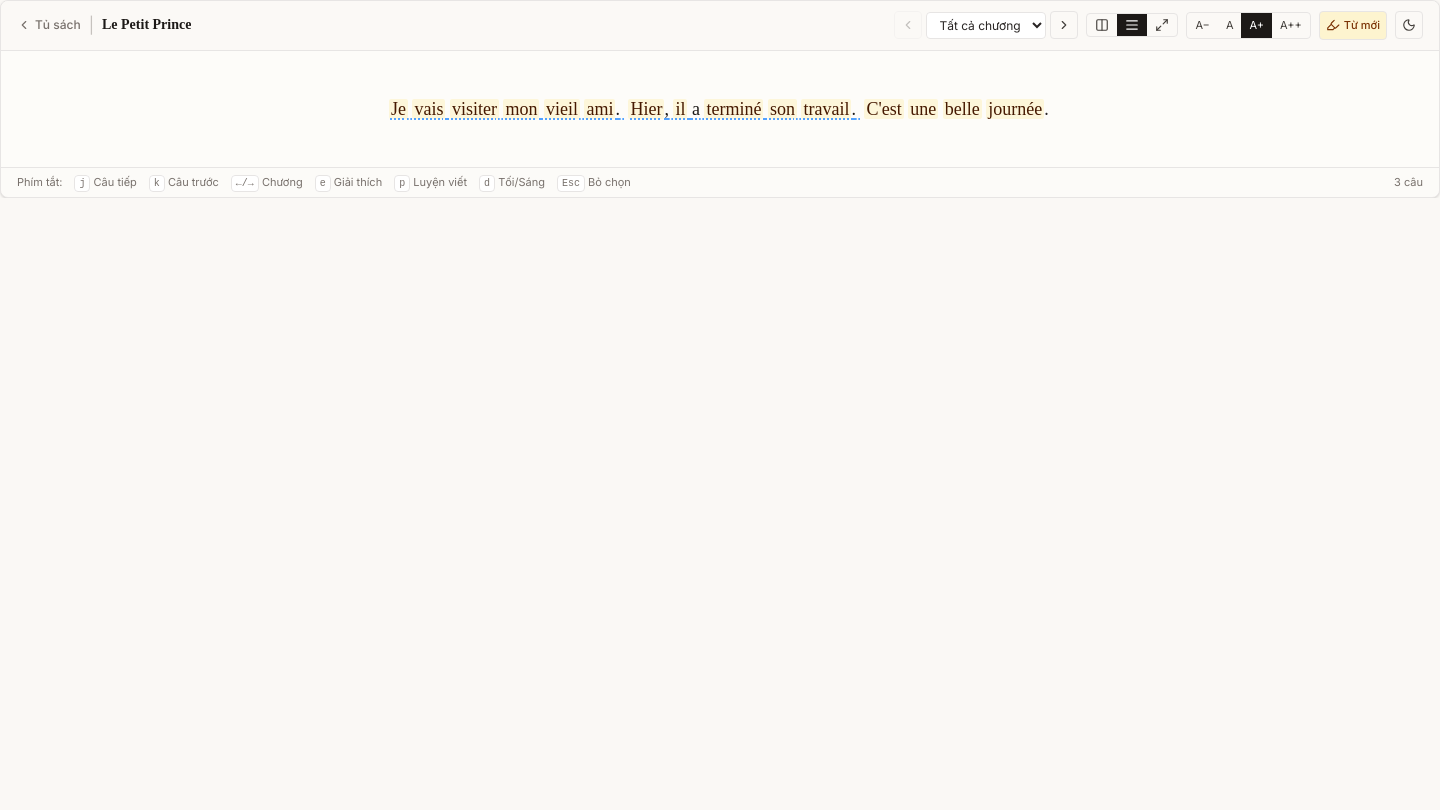
Test case: ReaderView component › shows dark mode toggle button in control bar
The image size is (1440, 810).
Click the button titled "Chế độ tối (D)" at (1409, 25), box [1395,11,1423,39]
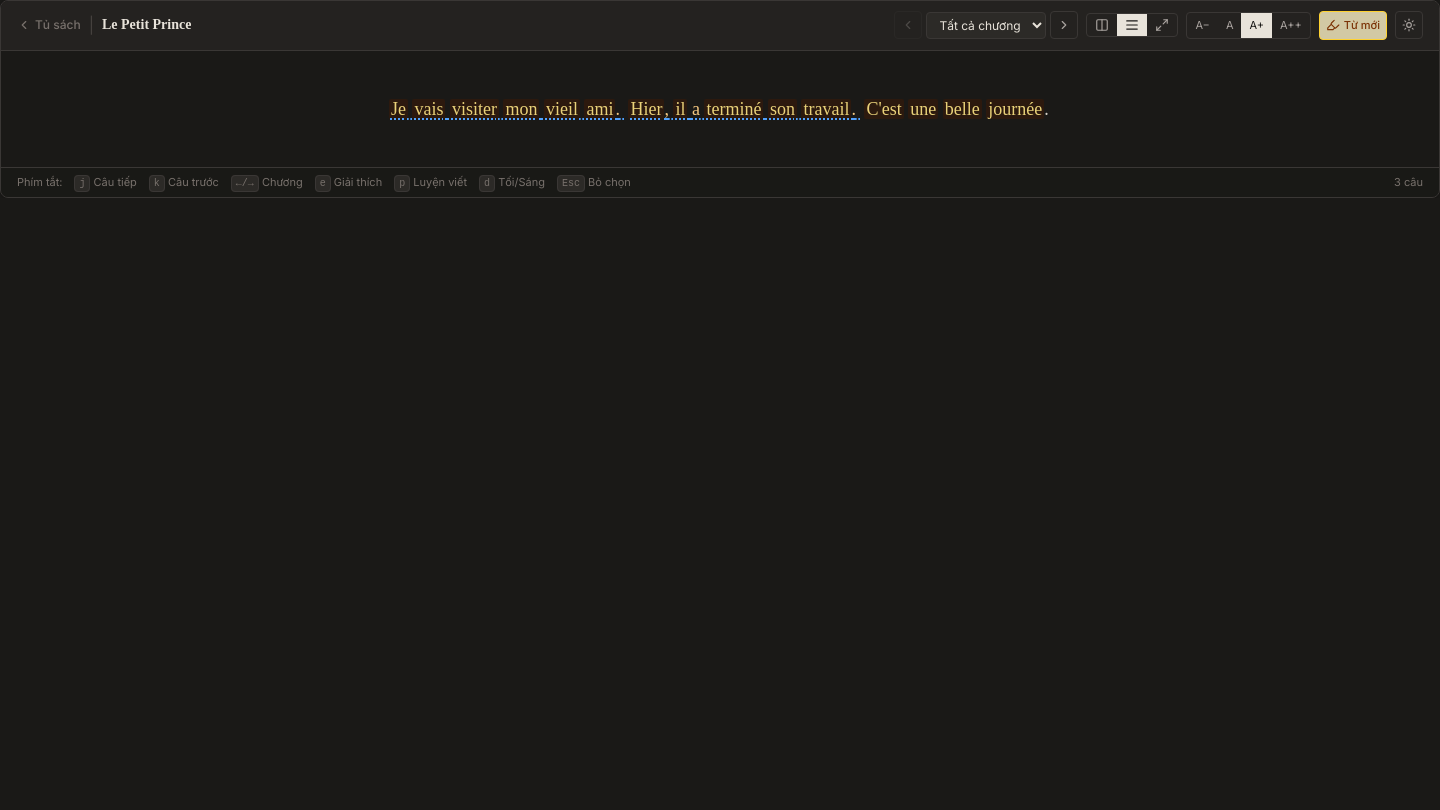
Expected: the button titled "Chế độ sáng (D)" is shown, [1395,11,1423,39]
